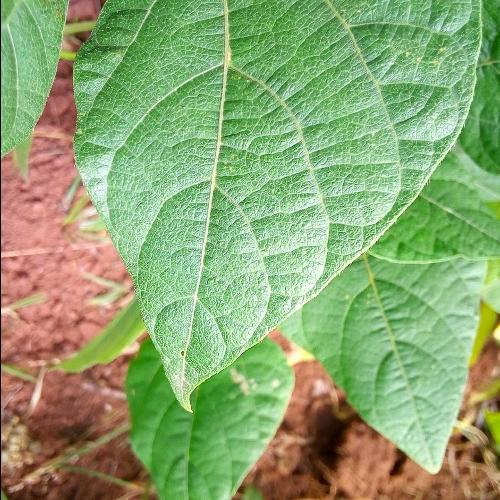sehat: (124, 43, 380, 228)
